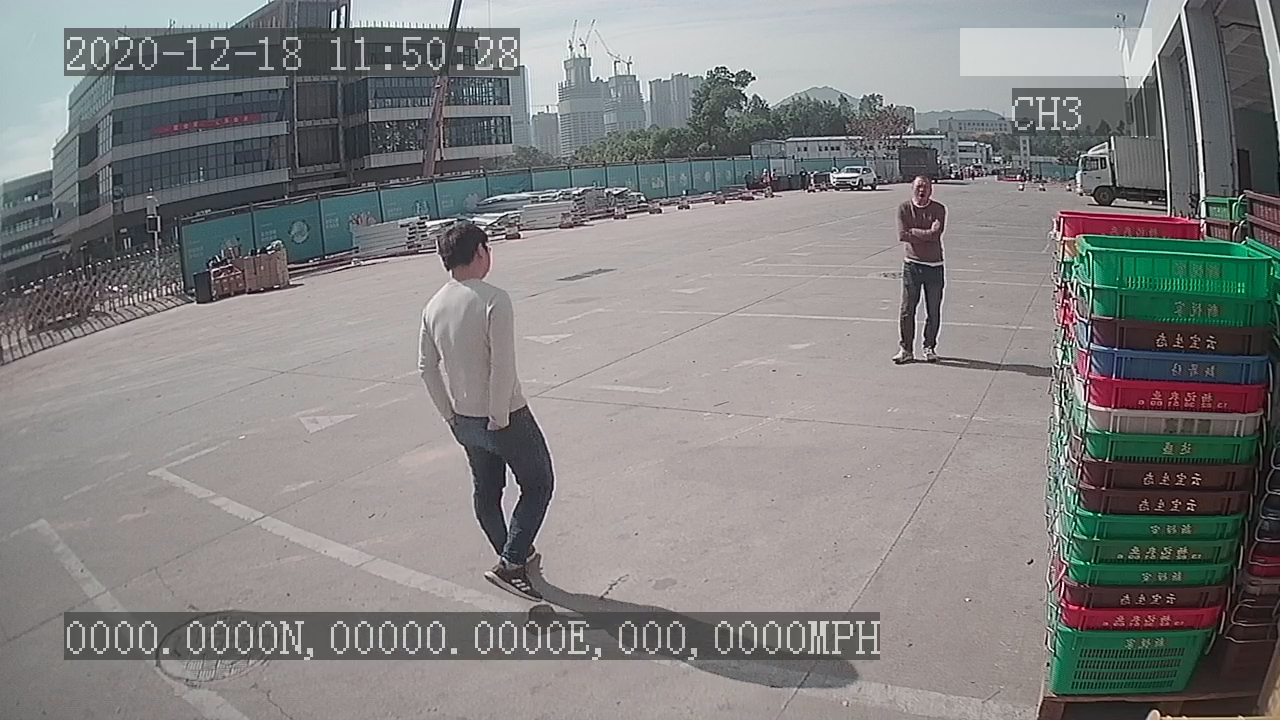person: (406, 217, 560, 606), (884, 172, 951, 372)
